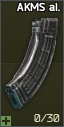AK 7.62x39 aluminium 30-round magazine: (0, 0, 64, 127)
